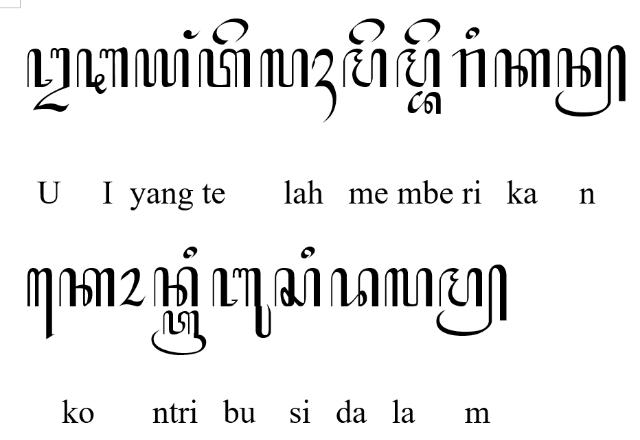-m: (436, 264, 508, 338)
-n: (556, 44, 626, 118)
I: (76, 47, 130, 95)
U: (27, 47, 71, 113)
_b: (406, 90, 442, 116)
_h1: (311, 48, 337, 124)
bu: (212, 268, 272, 338)
d: (330, 268, 380, 308)
e: (212, 17, 250, 45), (348, 18, 386, 46), (403, 17, 441, 44)
e1: (26, 267, 54, 341)
i: (464, 26, 480, 40), (182, 245, 198, 259), (300, 246, 316, 260)
k: (494, 47, 550, 88), (58, 268, 115, 308)
l: (383, 266, 432, 308), (260, 47, 308, 88)
m: (342, 48, 388, 88), (396, 48, 440, 88)
n: (153, 266, 199, 308)
ng: (183, 29, 200, 39)
o: (118, 268, 146, 308)
r: (452, 48, 486, 88)
s: (274, 268, 322, 308)
t: (198, 49, 252, 89)
tr: (152, 310, 206, 356)
y: (134, 47, 190, 88)
